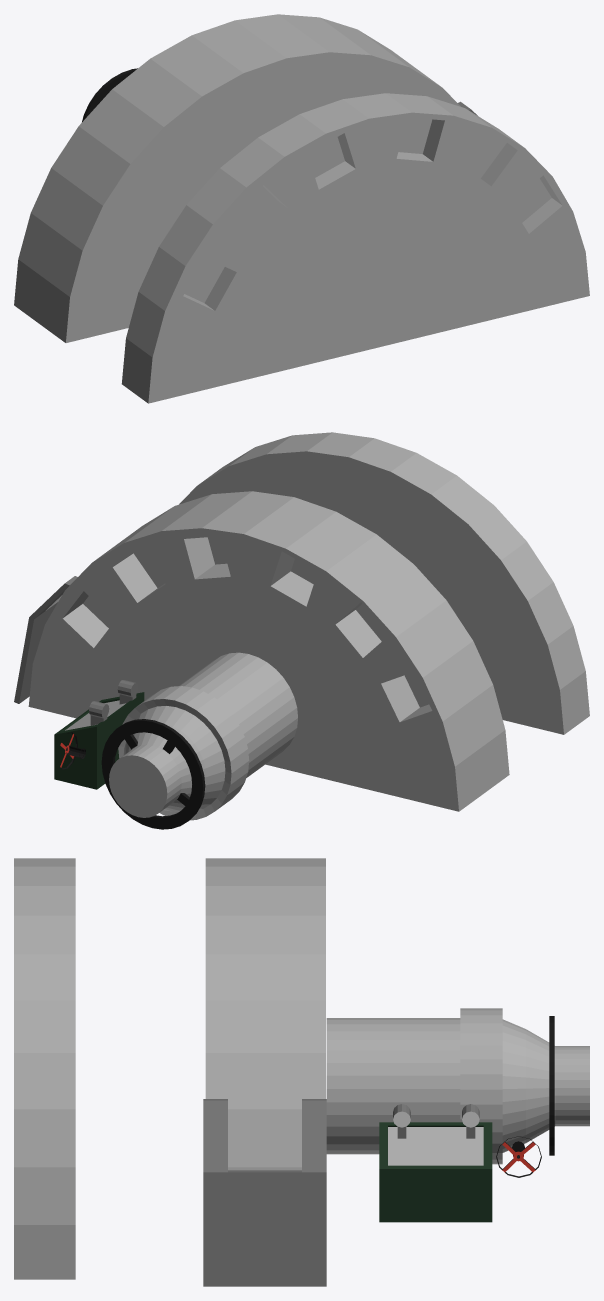
Rendered from Factory_2.fbx.
3 views of the same model, one above another, from view 1: azimuth 30°, elevation 25°; view 2: azimuth 150°, elevation 25°; view 3: azimuth 270°, elevation 25° (orthographic). The views are drawn at different scales.
Visible parts, largest first — view 1: Circle.027, Circle.025, Circle.028; view 2: Circle.025, Circle.027, Cylinder.100, Cube.075, Circle.028, Cube.074, Cylinder.101; view 3: Circle.025, Cylinder.100, Circle.027, Cube.074, Cube.075, Cylinder.101, Circle.028, Circle.026.
Boxes of the visible parts, bbox=[...] form: Circle.027: bbox=[121, 93, 589, 403]; Circle.025: bbox=[14, 14, 460, 342]; Circle.028: bbox=[82, 68, 137, 121]; Circle.025: bbox=[28, 491, 509, 811]; Circle.027: bbox=[179, 432, 589, 734]; Cylinder.100: bbox=[109, 652, 297, 820]; Cube.075: bbox=[54, 692, 144, 789]; Circle.028: bbox=[101, 719, 205, 829]; Cube.074: bbox=[14, 576, 77, 703]; Cylinder.101: bbox=[89, 680, 137, 725]; Circle.025: bbox=[205, 858, 325, 1170]; Cylinder.100: bbox=[326, 1008, 589, 1164]; Circle.027: bbox=[14, 858, 75, 1279]; Cube.074: bbox=[203, 1099, 326, 1286]; Cube.075: bbox=[379, 1122, 492, 1222]; Cylinder.101: bbox=[393, 1104, 479, 1138]; Circle.028: bbox=[549, 1016, 554, 1155]; Circle.026: bbox=[496, 1136, 541, 1177].
Size of the model in its own units: 2359 by 1164 by 2219.
